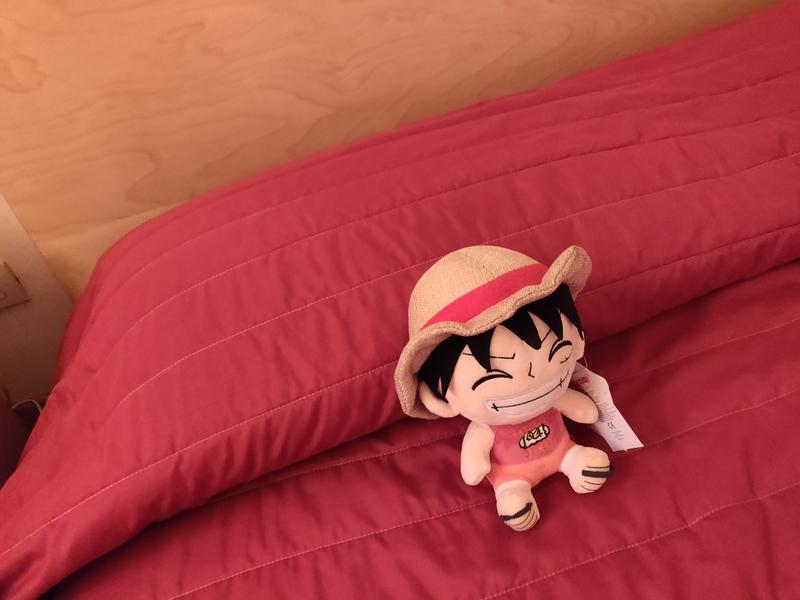rufy: (393, 238, 655, 538)
